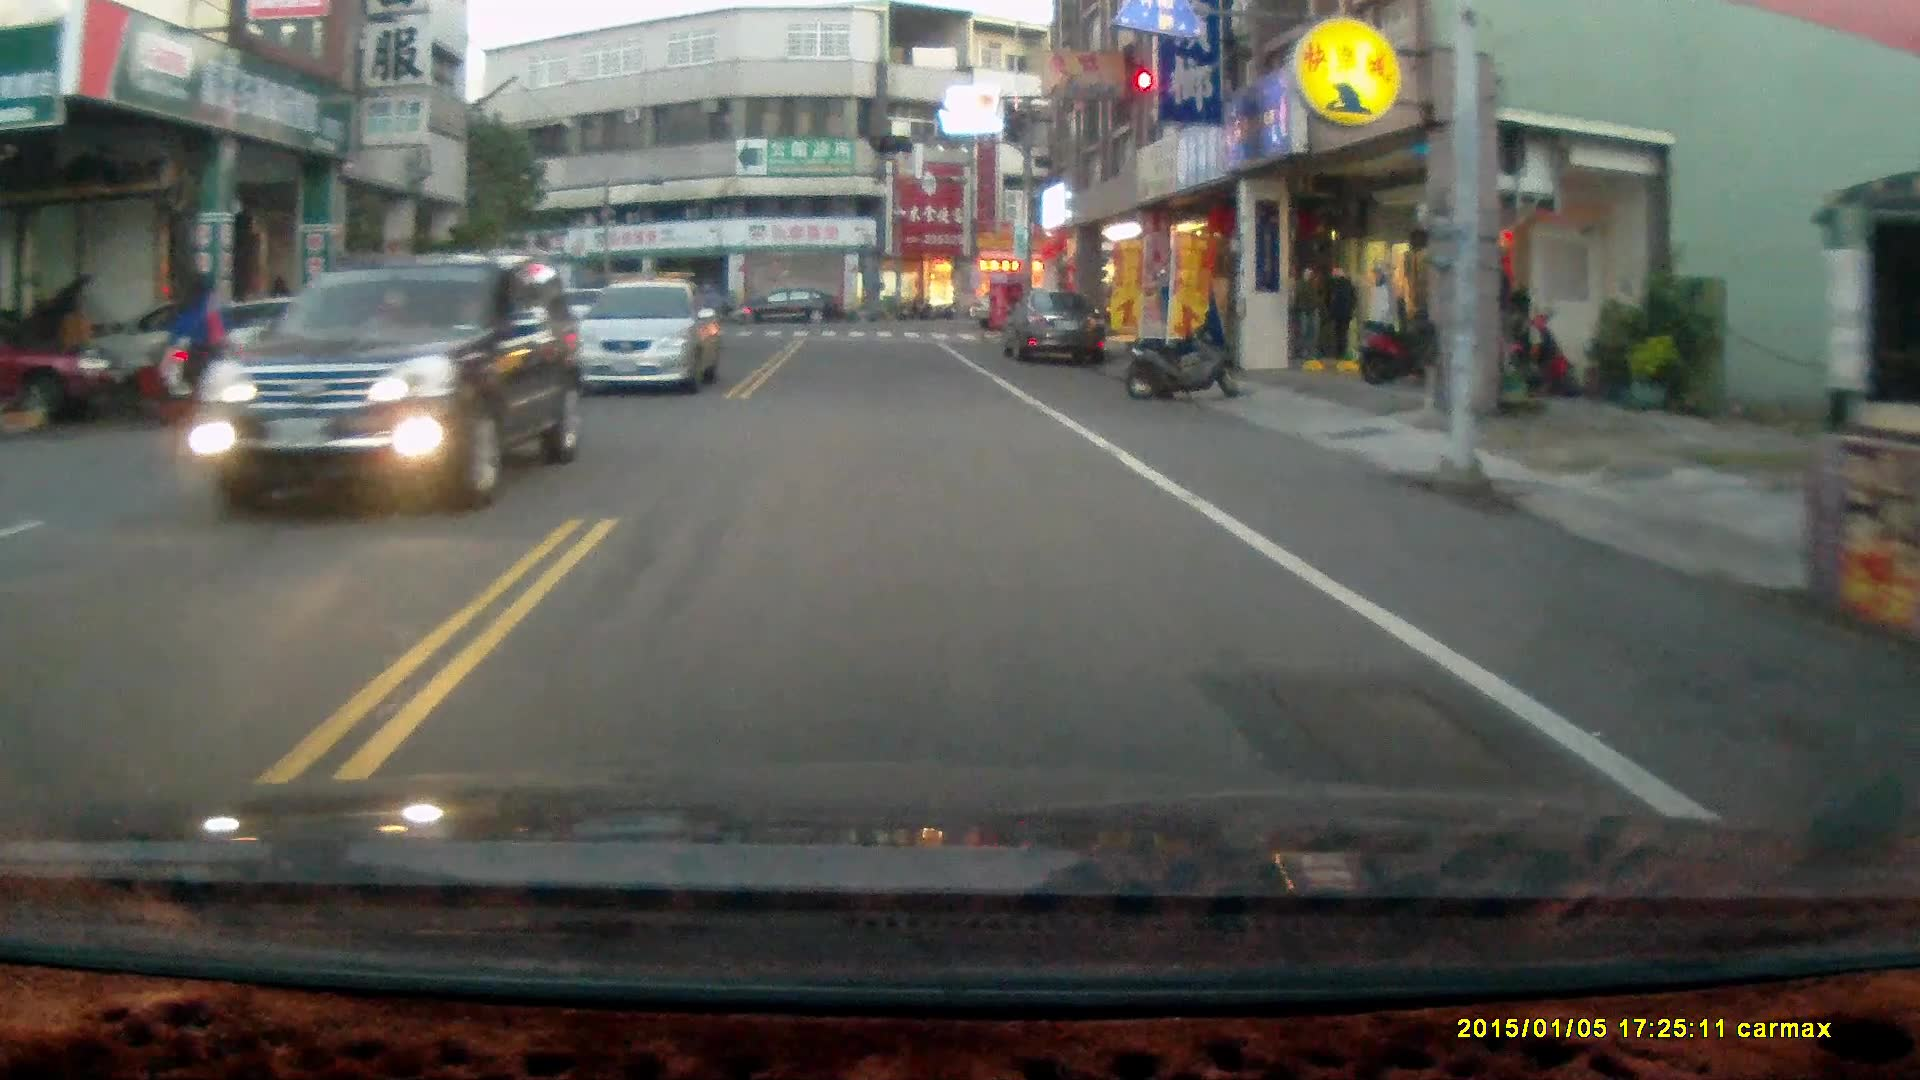pedestrian: (172, 269, 219, 431)
vehicle: (202, 250, 581, 512), (581, 277, 716, 394), (999, 286, 1109, 370), (731, 288, 846, 333)
